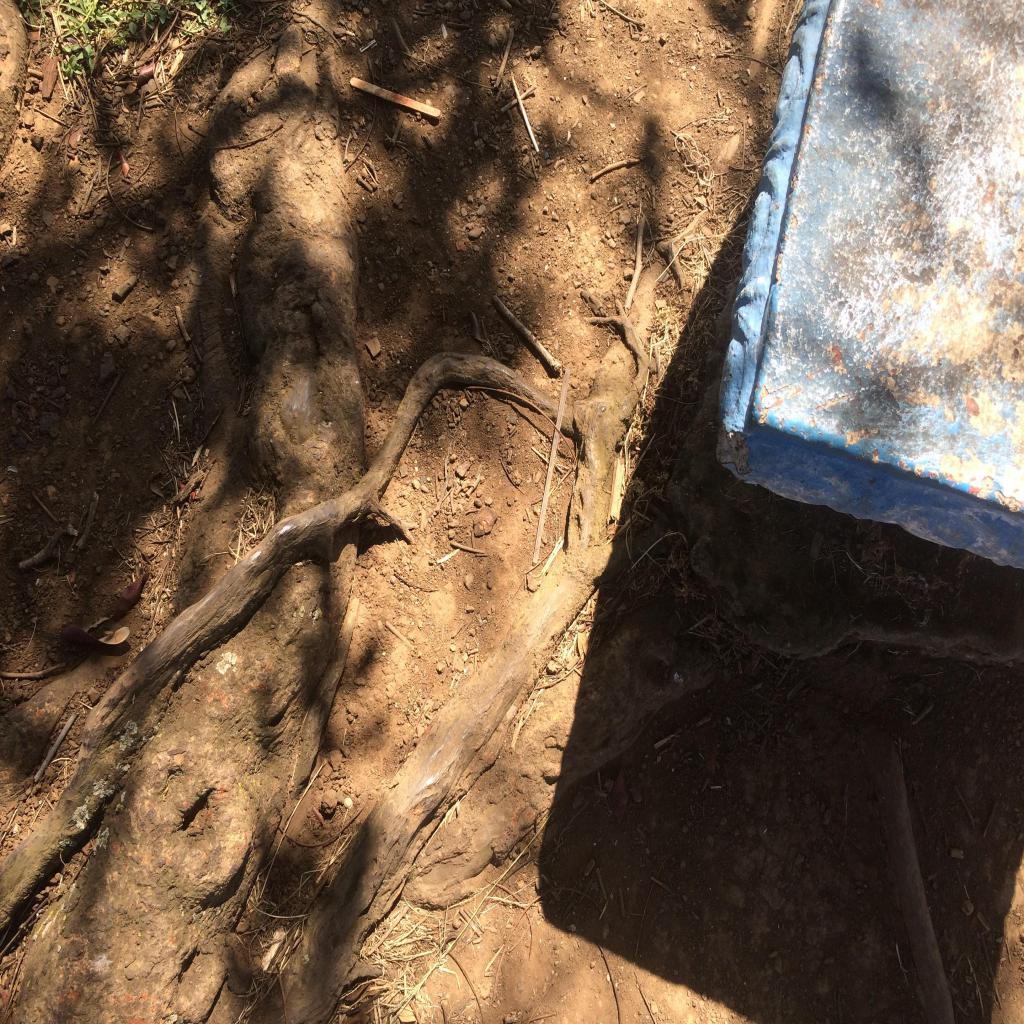Plastic straw: (532, 366, 570, 564)
Unlabeled litter: (512, 76, 540, 153)
